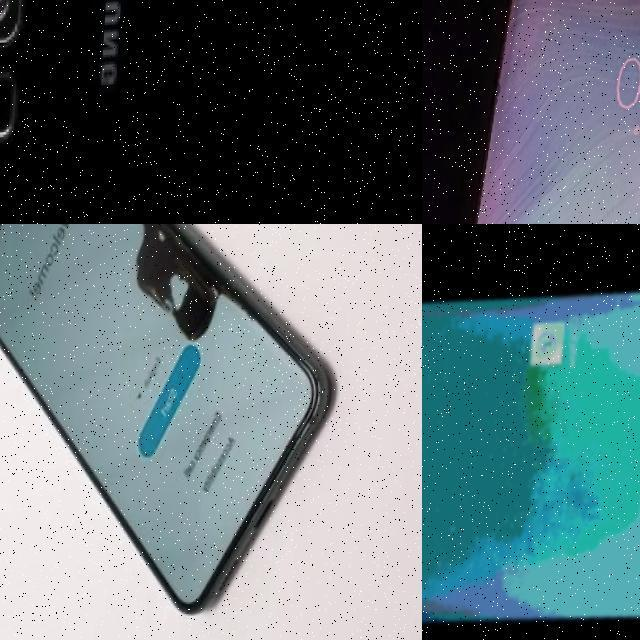dead pixel: (41, 224, 286, 374)
